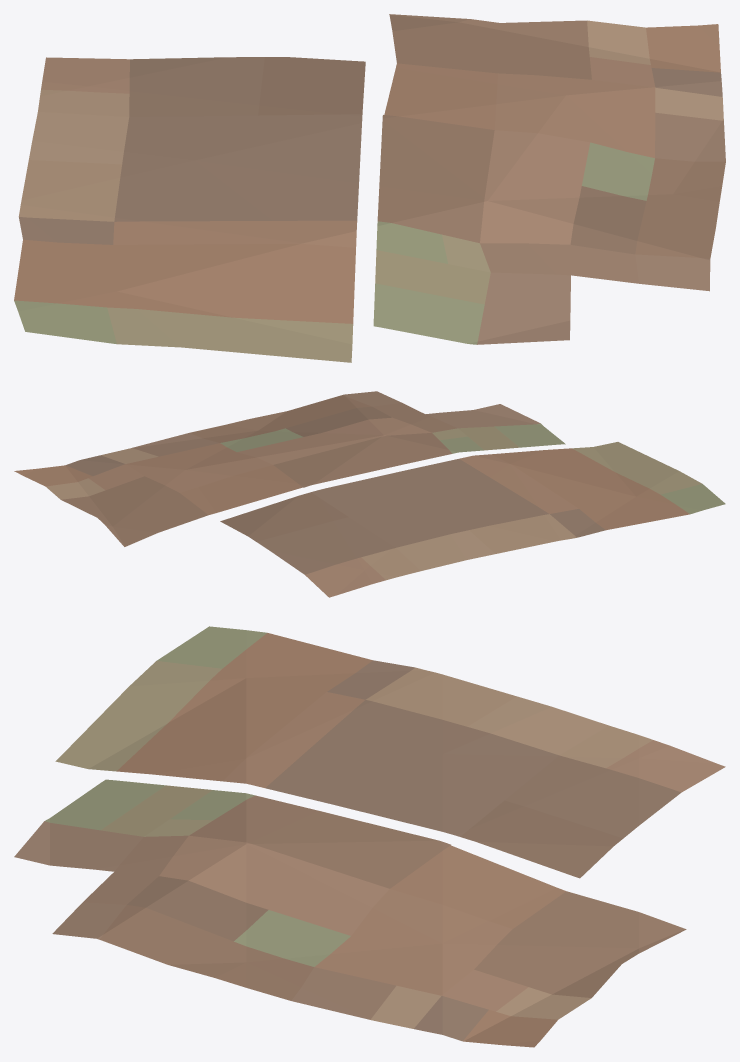
Rendered from farm_-30_-29_soil.glb.
The picture shows the model from 3 angles, top to bottom: view 1: azimuth 30°, elevation 25°; view 2: azimuth 150°, elevation 25°; view 3: azimuth 270°, elevation 25°; orthographic projection. The views are drawn at different scales.
Parts seen in each view (by area): view 1: geometry_0; view 2: geometry_0; view 3: geometry_0.
Boxes of the visible parts, x1=… form: geometry_0: x1=14, y1=14, x2=725, y2=362; geometry_0: x1=14, y1=391, x2=725, y2=597; geometry_0: x1=14, y1=626, x2=725, y2=1047.
Bounding box in the file's own units: 376 × 21.95 × 290.
